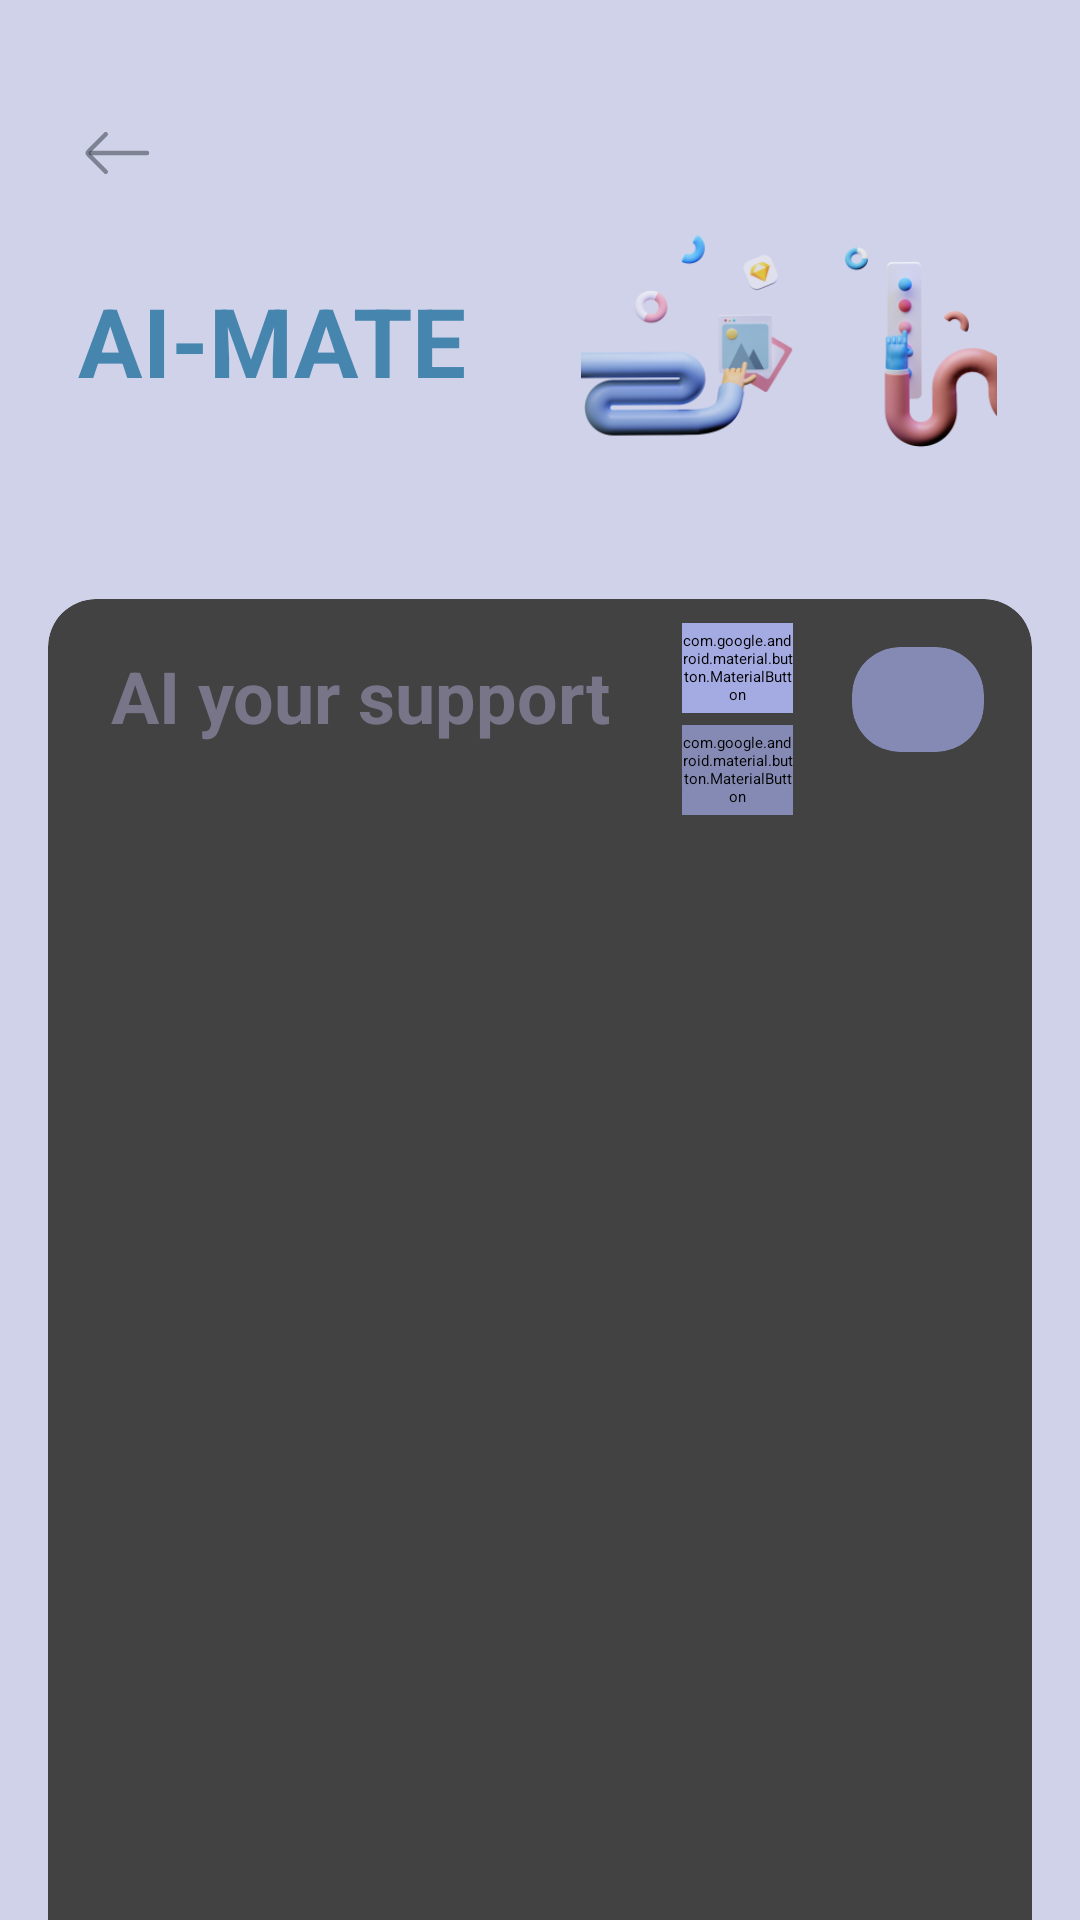

Named icons in this screenshot (1080x1920) and their bounding boxes, (x1, y1, x2, y2):
arrow eft: (85, 132, 149, 174)
